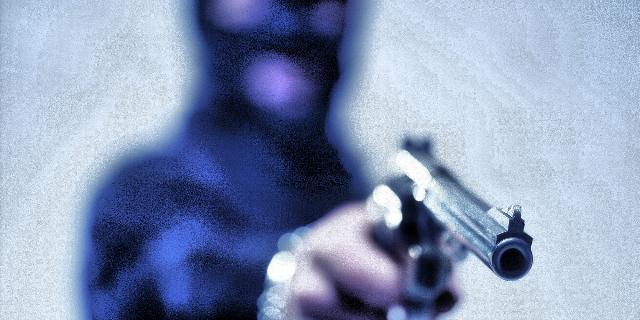pistol: (368, 129, 536, 319)
